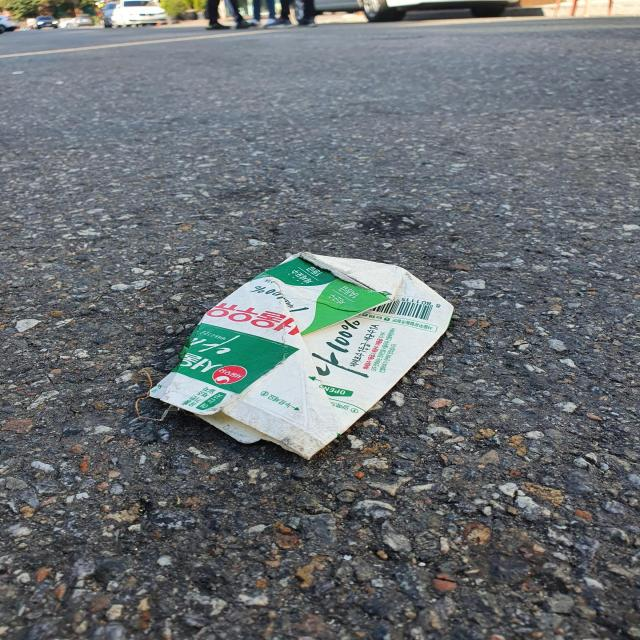paperpack: (149, 252, 454, 460)
